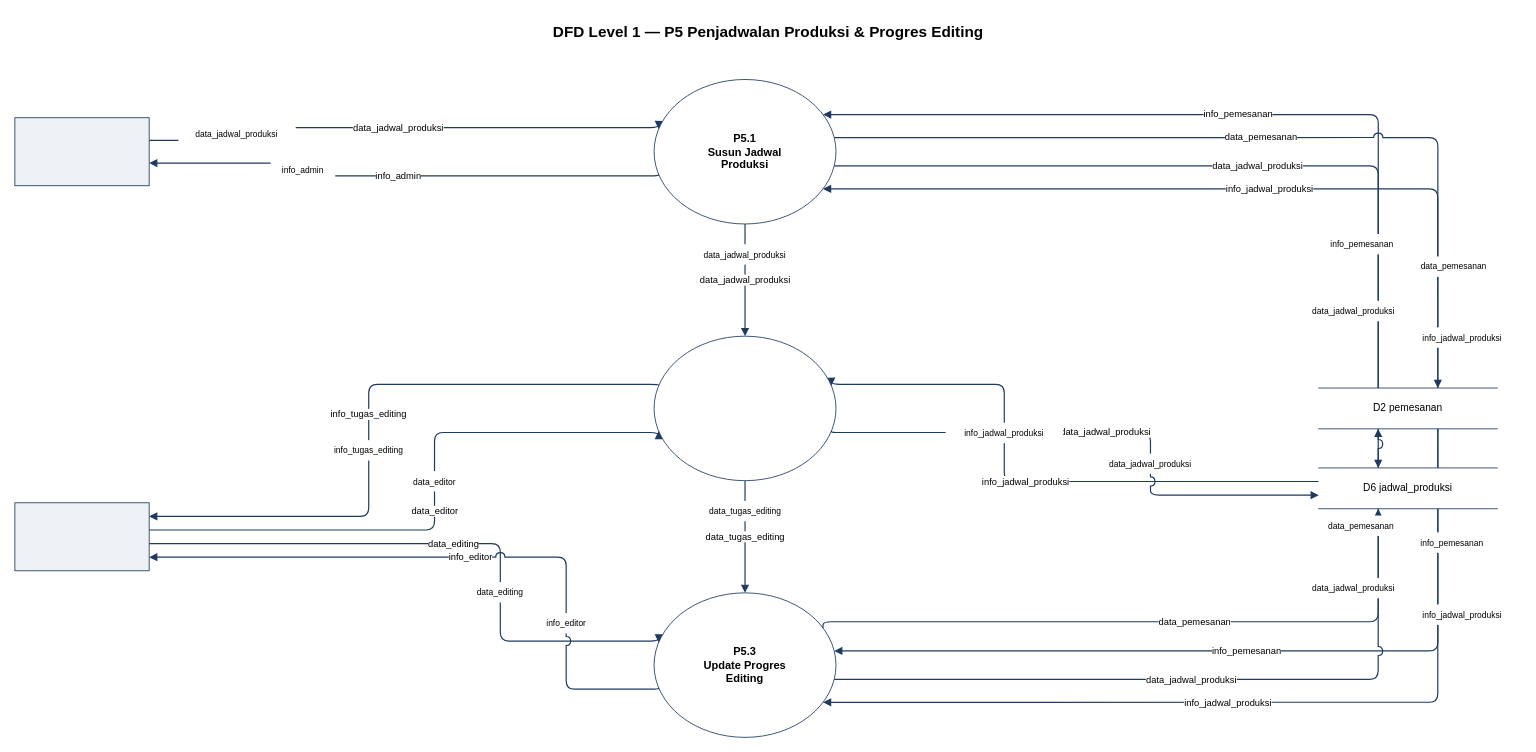
The diagram is 1536 pixels wide and 752 high, and some of its shapes have lost their labels. The box of each missing label's shape, as (x1, y1, x2, y2) in pixels:
Admin: (14, 117, 149, 186)
Editor: (14, 502, 149, 571)
P5.2 Distribusi Tugas ke Editor: (653, 335, 836, 481)
